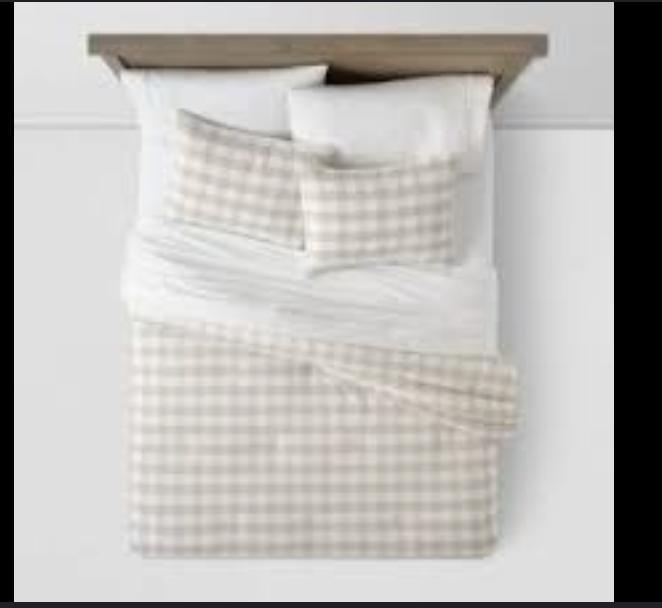Bed-Mattress: (82, 26, 549, 565)
